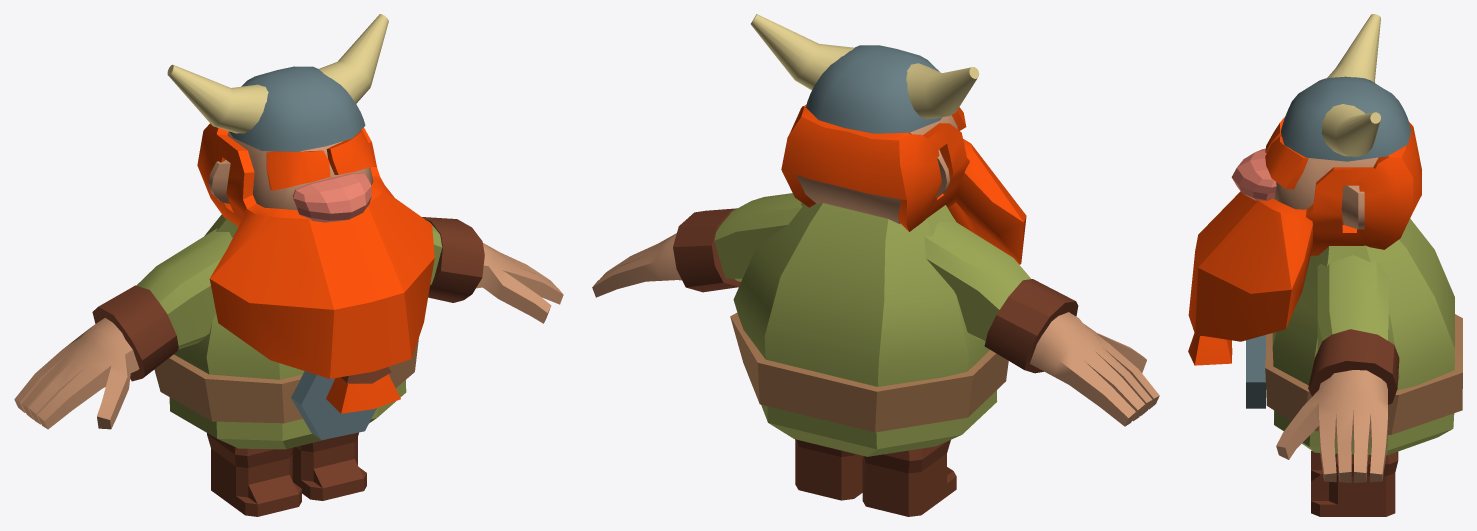
Rendered from Pawn2.fbx.
3 renders of one model, left to right at view 1: azimuth 30°, elevation 25°; view 2: azimuth 150°, elevation 25°; view 3: azimuth 270°, elevation 25°, orthographic. The views are drawn at different scales.
Visible parts, largest first — view 1: Cube.003, Cube.010, Cube.008, Cube.011, Cube.004, Cube.005, Cube.007, Cylinder, Cube.009, Cube.001, Cube.002, Cylinder.001 (+1 smaller); view 2: Cube.005, Cube.003, Cube.007, Cube.009, Cube.010, Cube.008, Cube.011, Cube.004, Cylinder, Cube; view 3: Cube.003, Cube.005, Cube.010, Cube.004, Cube.007, Cube.009, Cylinder, Cube.008, Cube.011, Cube, Cube.001, Cube.002 (+1 smaller).
Part boxes in pixels (<box>): Cube.003: <box>197,123,434,413</box>; Cube.010: <box>14,243,563,429</box>; Cube.008: <box>207,432,366,516</box>; Cube.011: <box>92,217,484,381</box>; Cube.004: <box>229,66,365,151</box>; Cube.005: <box>169,214,406,449</box>; Cube.007: <box>154,338,418,423</box>; Cylinder: <box>167,14,388,133</box>; Cube.009: <box>136,221,442,349</box>; Cube.001: <box>266,130,376,190</box>; Cube.002: <box>293,173,371,222</box>; Cylinder.001: <box>291,371,376,440</box>; Cube.005: <box>733,203,997,456</box>; Cube.003: <box>781,104,1026,264</box>; Cube.007: <box>730,313,1008,432</box>; Cube.009: <box>714,193,1030,340</box>; Cube.010: <box>592,233,1159,426</box>; Cube.008: <box>795,439,956,516</box>; Cube.011: <box>673,208,1078,373</box>; Cube.004: <box>806,45,942,133</box>; Cylinder: <box>750,14,979,119</box>; Cube: <box>796,115,957,223</box>; Cube.003: <box>1188,122,1421,365</box>; Cube.005: <box>1272,218,1454,455</box>; Cube.010: <box>1276,370,1387,482</box>; Cube.004: <box>1280,76,1411,161</box>; Cube.007: <box>1265,314,1462,434</box>; Cube.009: <box>1317,255,1388,350</box>; Cylinder: <box>1321,14,1380,156</box>; Cube.008: <box>1311,450,1398,516</box>; Cube.011: <box>1308,329,1399,404</box>; Cube: <box>1274,157,1378,229</box>; Cube.001: <box>1265,117,1308,189</box>; Cube.002: <box>1231,148,1276,200</box>.
Bounding box in the file's own units: 328 × 264 × 155.
